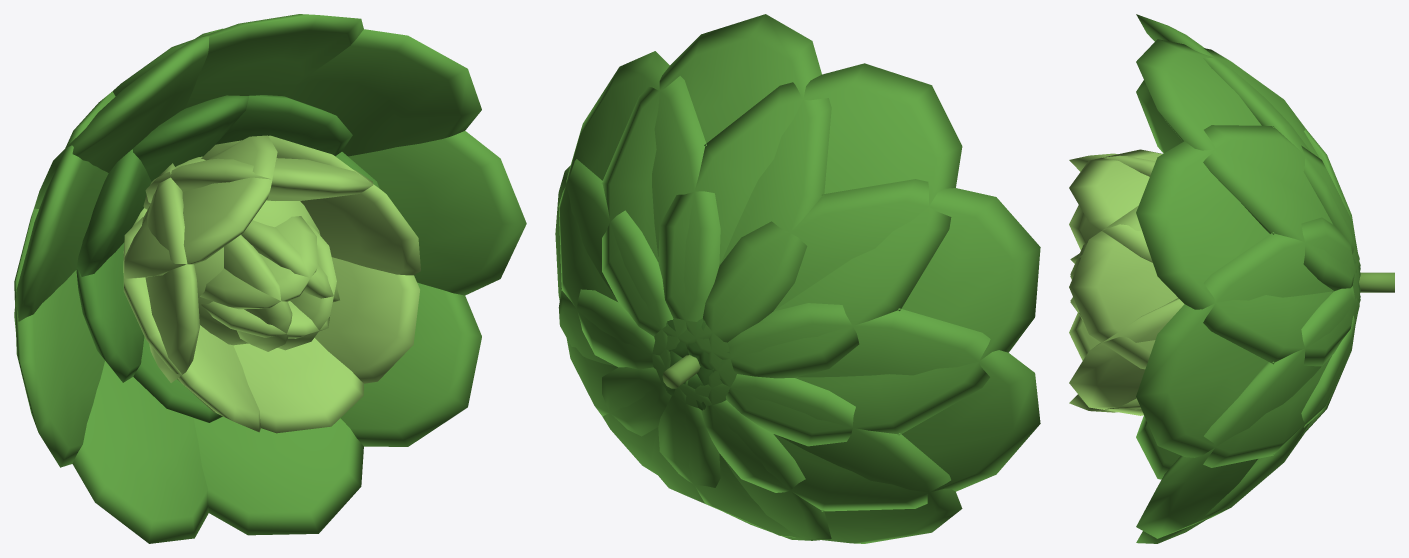
Rendered from Lettuce.fbx.
The picture shows the model from 3 angles, left to right: view 1: azimuth 30°, elevation 25°; view 2: azimuth 150°, elevation 25°; view 3: azimuth 270°, elevation 25°; orthographic projection. The views are drawn at different scales.
Visible parts, largest first — view 1: Leaf.016, Leaf.022, Leaf.023, Leaf.017, Leaf.024, Leaf.021, Leaf.018, Leaf.031, Leaf.027, Leaf.030, Leaf.020, Leaf.025 (+15 smaller); view 2: Leaf.019, Leaf.020, Leaf.018, Leaf.021, Leaf.017, Leaf.022, Leaf.016, Leaf.023, Leaf.024, Stem; view 3: Leaf.017, Leaf.016, Leaf.018, Leaf.024, Leaf.025, Leaf.026, Leaf.031, Leaf.019, Leaf.023, Leaf.020, Leaf.022, Leaf.027 (+4 smaller).
Part boxes in pixels (box(x1,y1,x2,y2)): Leaf.016: box(348, 131, 526, 295); Leaf.022: box(72, 361, 208, 543); Leaf.023: box(194, 416, 363, 535); Leaf.017: box(282, 29, 481, 156); Leaf.024: box(340, 282, 481, 446); Leaf.021: box(14, 208, 104, 467); Leaf.018: box(111, 14, 363, 108); Leaf.031: box(314, 257, 419, 383); Leaf.027: box(123, 135, 277, 278); Leaf.030: box(177, 338, 363, 433); Leaf.020: box(14, 91, 115, 331); Leaf.025: box(201, 135, 420, 275); Leaf.019: box(658, 63, 962, 378); Leaf.020: box(703, 179, 1040, 446); Leaf.018: box(601, 14, 831, 354); Leaf.021: box(701, 303, 1040, 511); Leaf.017: box(558, 51, 720, 369); Leaf.022: box(658, 374, 962, 543); Leaf.016: box(555, 159, 673, 436); Leaf.023: box(602, 367, 831, 540); Leaf.024: box(558, 288, 720, 503); Stem: box(662, 355, 700, 388); Leaf.017: box(1136, 125, 1359, 366); Leaf.016: box(1136, 217, 1359, 467); Leaf.018: box(1136, 39, 1359, 291); Leaf.024: box(1136, 286, 1359, 538); Leaf.025: box(1069, 206, 1177, 369); Leaf.026: box(1069, 149, 1162, 262); Leaf.031: box(1069, 298, 1184, 415); Leaf.019: box(1136, 14, 1359, 259); Leaf.023: box(1136, 306, 1359, 543); Leaf.020: box(1136, 80, 1355, 238); Leaf.022: box(1136, 325, 1355, 479); Leaf.027: box(1069, 153, 1155, 176).
Size of the model in its own units: 0.4183 by 0.4196 by 0.2575.
